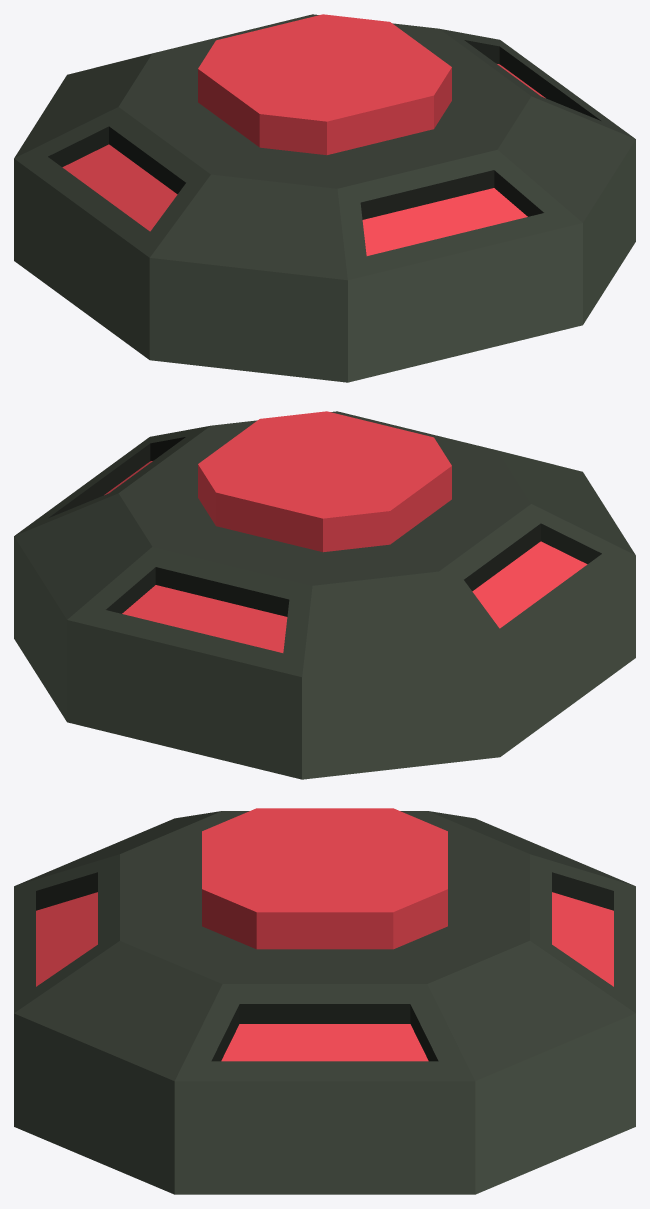
Rendered from LandMine.fbx.
3 views of the same model, one above another, from view 1: azimuth 30°, elevation 25°; view 2: azimuth 150°, elevation 25°; view 3: azimuth 270°, elevation 25° (orthographic). The views are drawn at different scales.
Parts seen in each view (by area): view 1: Plane; view 2: Plane; view 3: Plane.
Part boxes in pixels (left/top/right/bottom): Plane: left=14, top=14, right=635, bottom=382; Plane: left=14, top=411, right=635, bottom=779; Plane: left=14, top=808, right=635, bottom=1194.
Bounding box in the file's own units: 0.3949 × 0.1422 × 0.3949.
